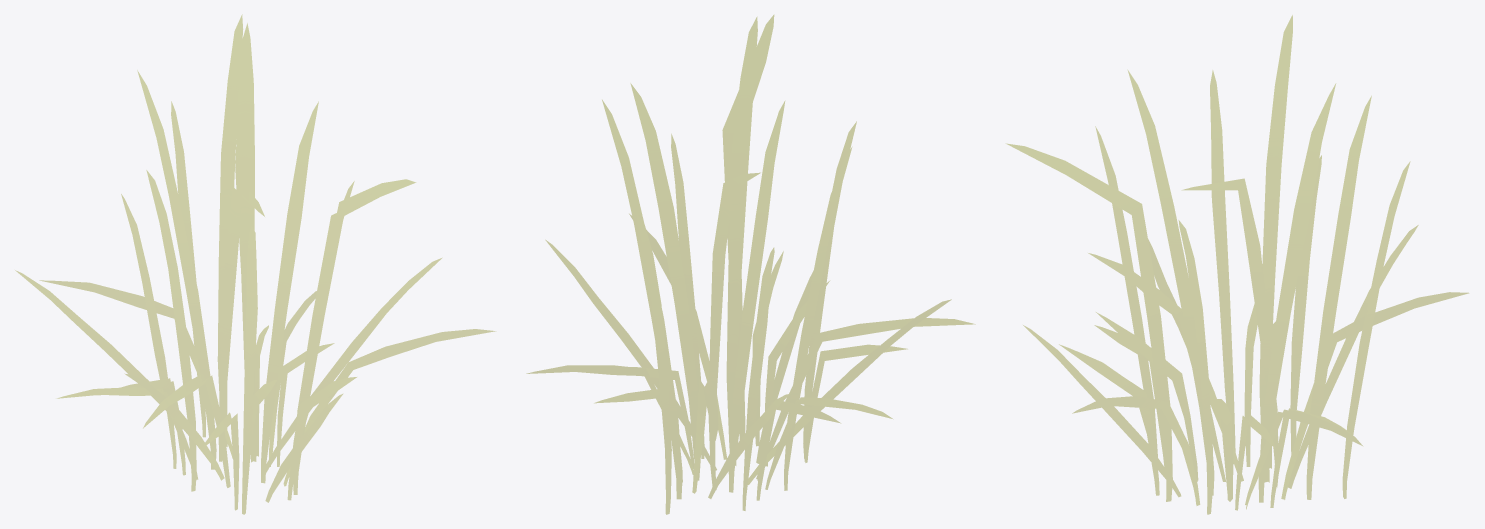
File: SnowGrass_Wispy_Tall.obj
The picture shows the model from 3 angles, left to right: view 1: azimuth 30°, elevation 25°; view 2: azimuth 150°, elevation 25°; view 3: azimuth 270°, elevation 25°; orthographic projection. The views are drawn at different scales.
Visible parts, largest first — view 1: SnowGrass_Wispy_Tall; view 2: SnowGrass_Wispy_Tall; view 3: SnowGrass_Wispy_Tall.
Boxes of the visible parts, x1=… form: SnowGrass_Wispy_Tall: x1=15, y1=14, x2=496, y2=514; SnowGrass_Wispy_Tall: x1=526, y1=14, x2=975, y2=514; SnowGrass_Wispy_Tall: x1=1005, y1=15, x2=1469, y2=514.
Bounding box in the file's own units: 1.54 × 1.67 × 1.59.
1 material, 1 textured.
